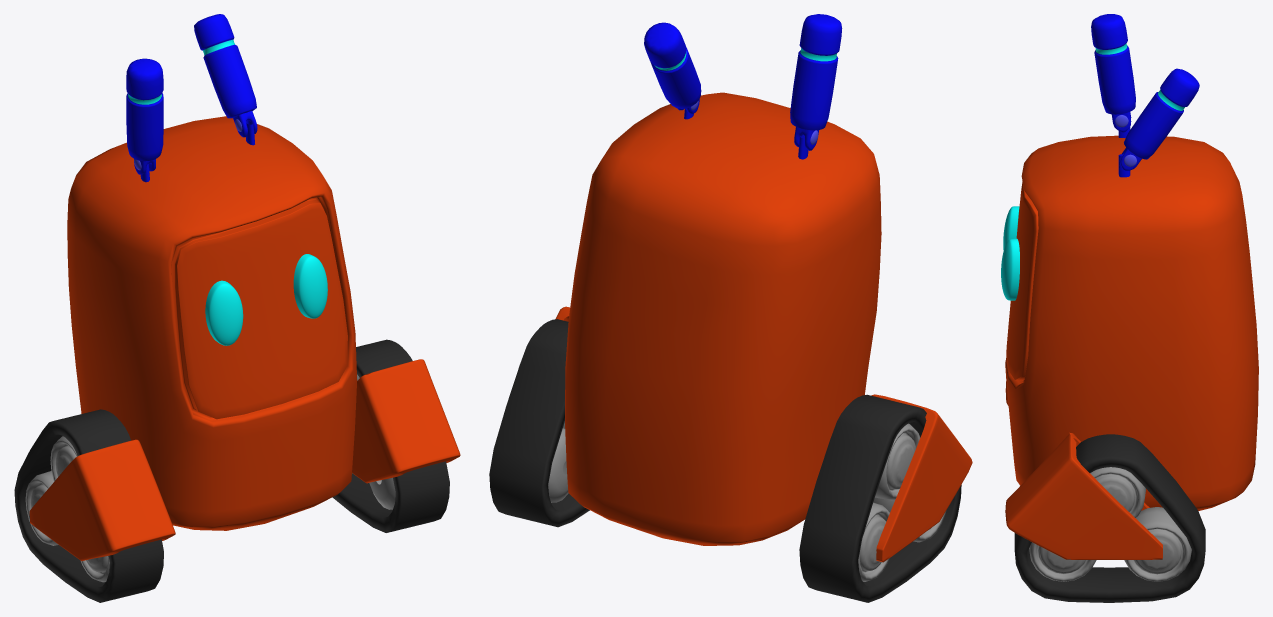
The model's file is robot2_pose.fbx.
The picture shows the model from 3 angles, left to right: view 1: azimuth 30°, elevation 25°; view 2: azimuth 150°, elevation 25°; view 3: azimuth 270°, elevation 25°; orthographic projection. The views are drawn at different scales.
Visible parts, largest first — view 1: body3; view 2: body3; view 3: body3.
Boxes of the visible parts, box(x1,y1,x2,y2) form: body3: box(14, 14, 460, 602); body3: box(489, 14, 972, 602); body3: box(1001, 14, 1258, 602).
Size of the model in its own units: 41.15 by 55.65 by 27.71.
